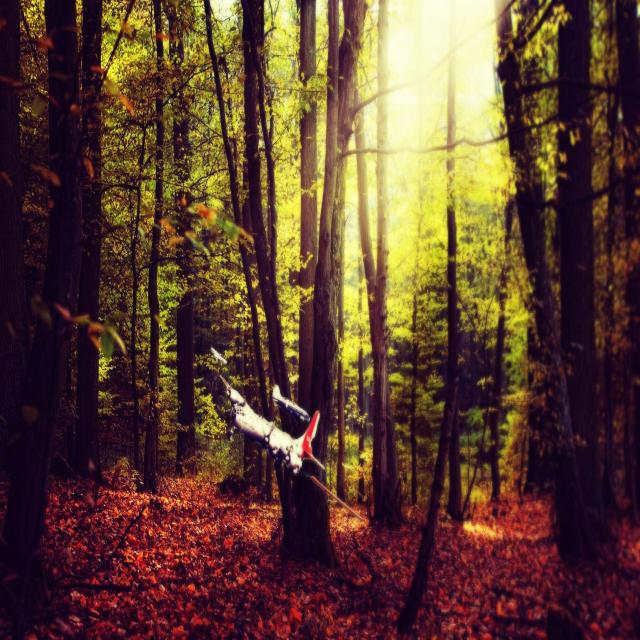airplane: (217, 372, 365, 523)
